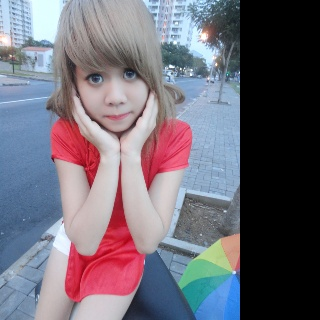without_mask: (74, 47, 149, 132)
